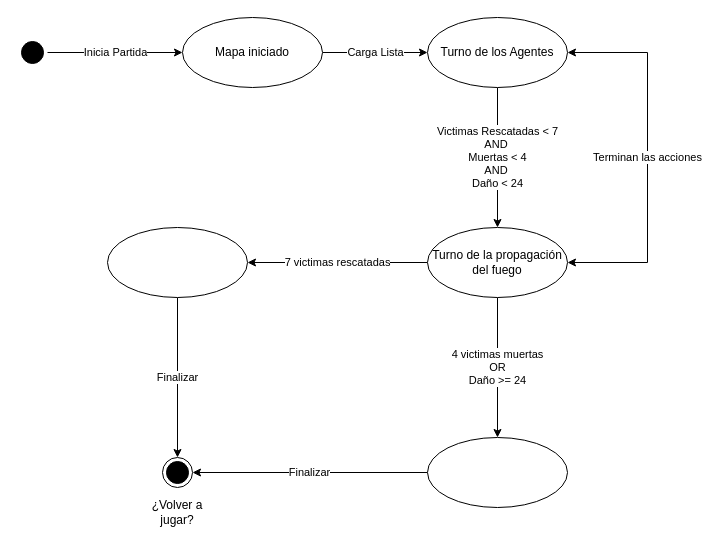
The diagram is 719 pixels wide and 545 high, and some of its shapes have lost their labels. The centre of each missing label's shape, as x and y in pixels:
PartidaGanada: (177,262)
PartidaPerdida: (497,472)
